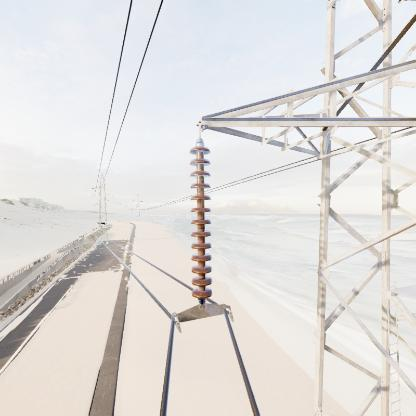insulator: (185, 139, 218, 307)
